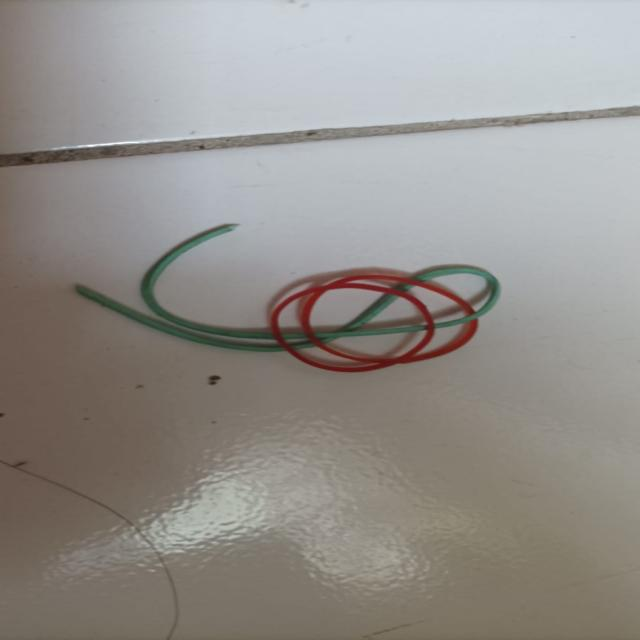Organik: (72, 215, 537, 387)
